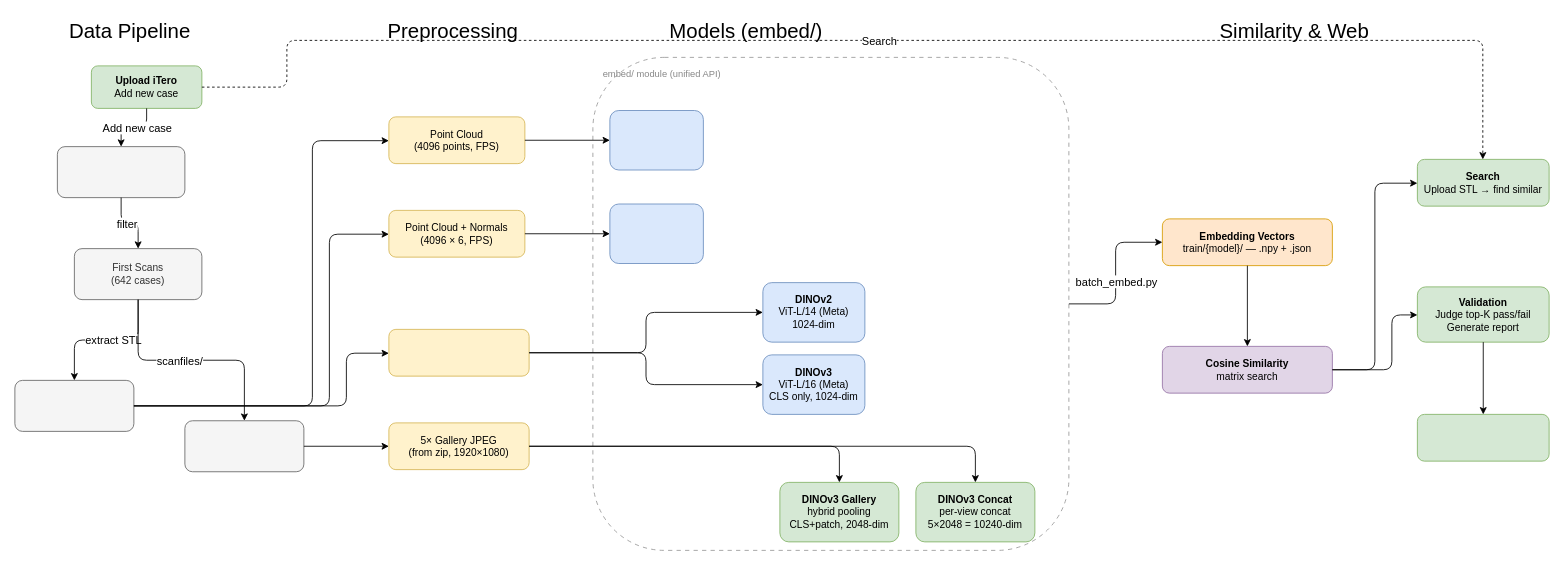
This 1564x565 diagram has some shape labels left out. Each missing label, with the centre of its shape:
3D .stl Files (full arch mesh): the point at 74,405
5-Angle Rendering (法向量著色, Open3D): the point at 458,352
Full iTero Reports (~1300 cases): the point at 121,172
iTero Scan Zips (5× gallery JPEG): the point at 244,446
Point-MAE self-trained 384-dim: the point at 656,233
SimCLR self-trained 512-dim: the point at 656,140
Top-K Results + STL viewer: the point at 1483,437
